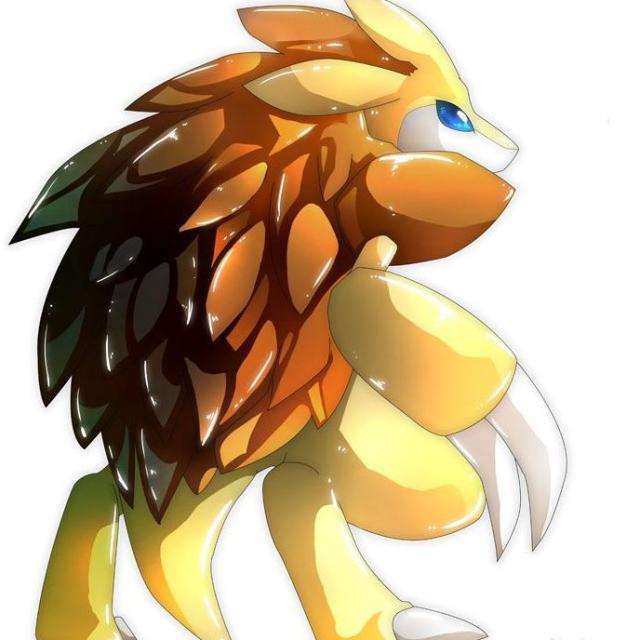Sandslash: (54, 0, 558, 640)
